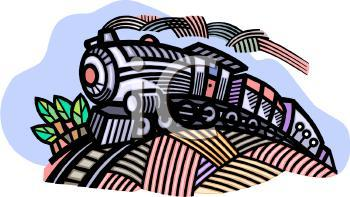train: (76, 24, 340, 174)
